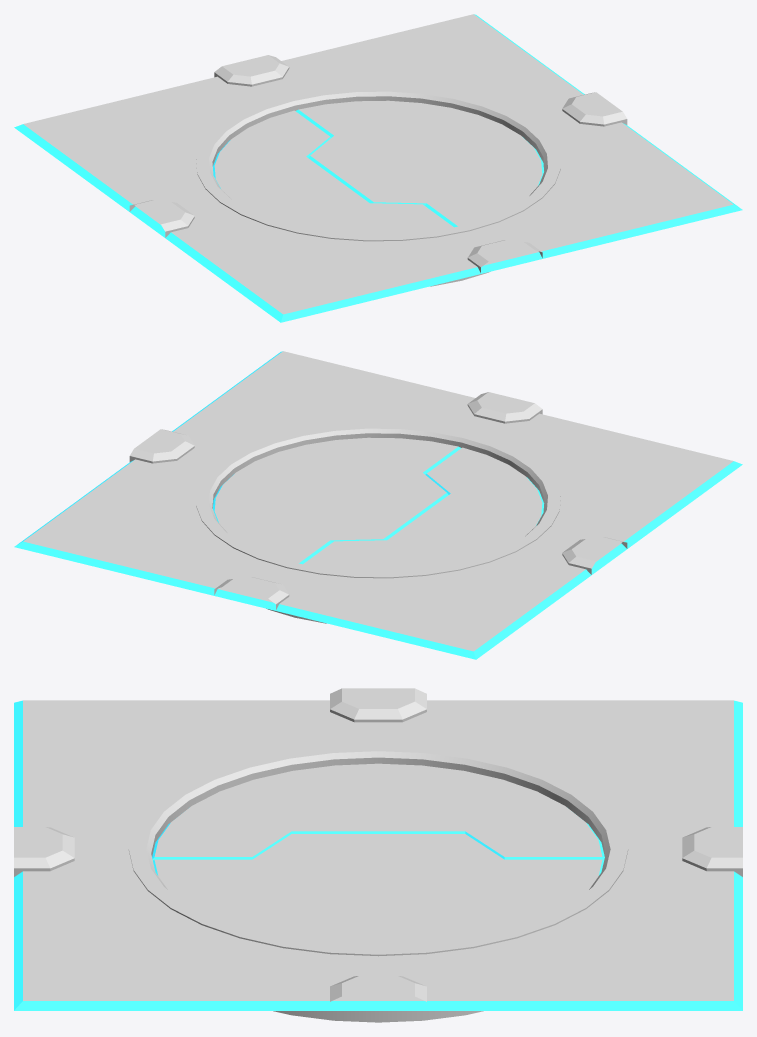
File: SM_GroundTile1.fbx
3 renders of one model, top to bottom at view 1: azimuth 30°, elevation 25°; view 2: azimuth 150°, elevation 25°; view 3: azimuth 270°, elevation 25°, orthographic. The views are drawn at different scales.
Parts seen in each view (by area): view 1: TileGround1_Base.012, TileGround1_Door2.012, TileGround1_Door1.012; view 2: TileGround1_Base.012, TileGround1_Door2.012, TileGround1_Door1.012; view 3: TileGround1_Base.012, TileGround1_Door2.012, TileGround1_Door1.012, TileGround1_Symbol.012.
Part boxes in pixels (x1,y1,x2,y2): TileGround1_Base.012: [14, 14, 742, 322]; TileGround1_Door2.012: [295, 100, 543, 227]; TileGround1_Door1.012: [212, 110, 453, 234]; TileGround1_Base.012: [14, 351, 742, 659]; TileGround1_Door2.012: [213, 437, 461, 564]; TileGround1_Door1.012: [303, 447, 544, 571]; TileGround1_Base.012: [14, 688, 742, 1010]; TileGround1_Door2.012: [153, 834, 603, 947]; TileGround1_Door1.012: [152, 763, 604, 860]; TileGround1_Symbol.012: [273, 1011, 483, 1022].
Size of the model in its own units: 6 by 6 by 0.7613.
